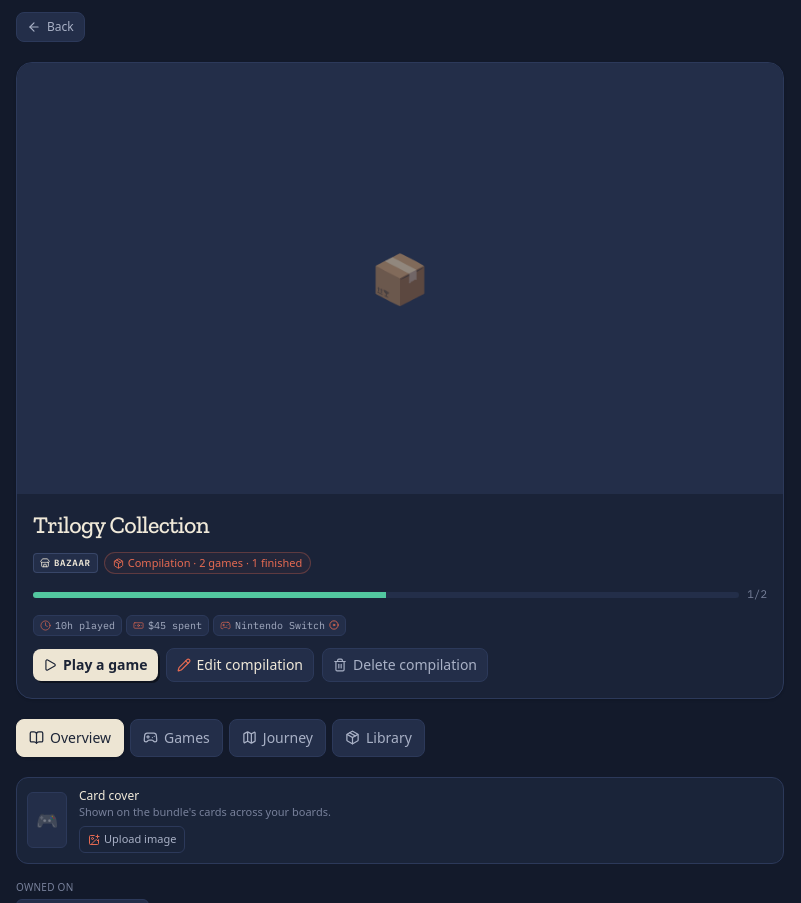
Test: CompilationPage › breaks out a milestone timeline per game on the Journey tab (cloud)
Click the tab "Journey".
click(277, 738)  # box [229,719,326,757]
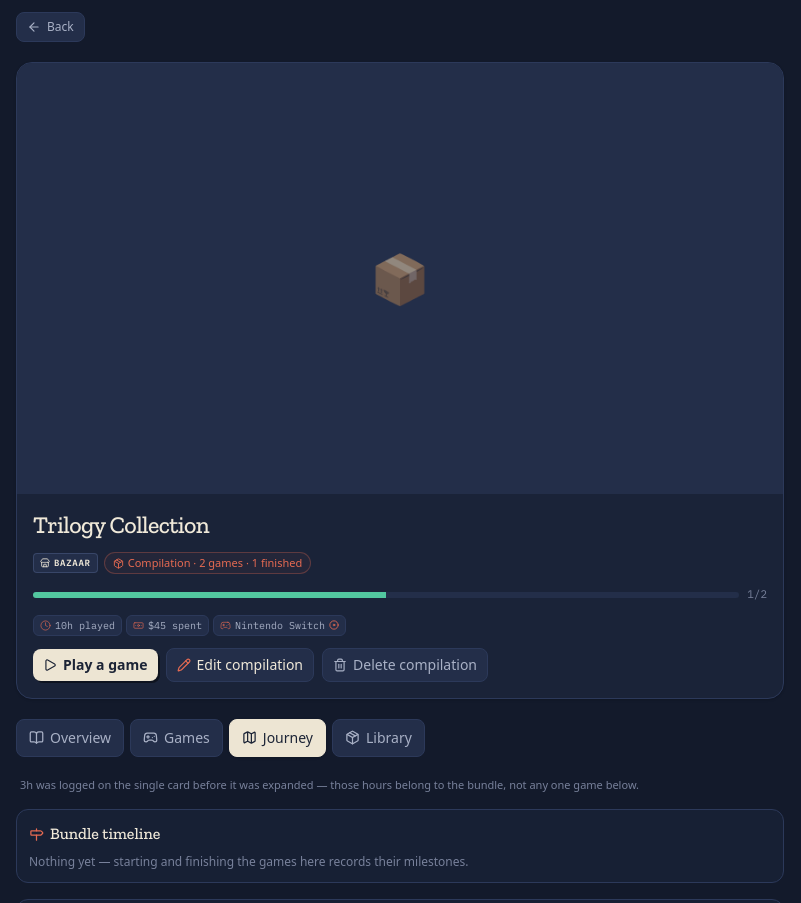
Check: the text "3h was logged on the single card" is shown, box [20,777,639,792]
